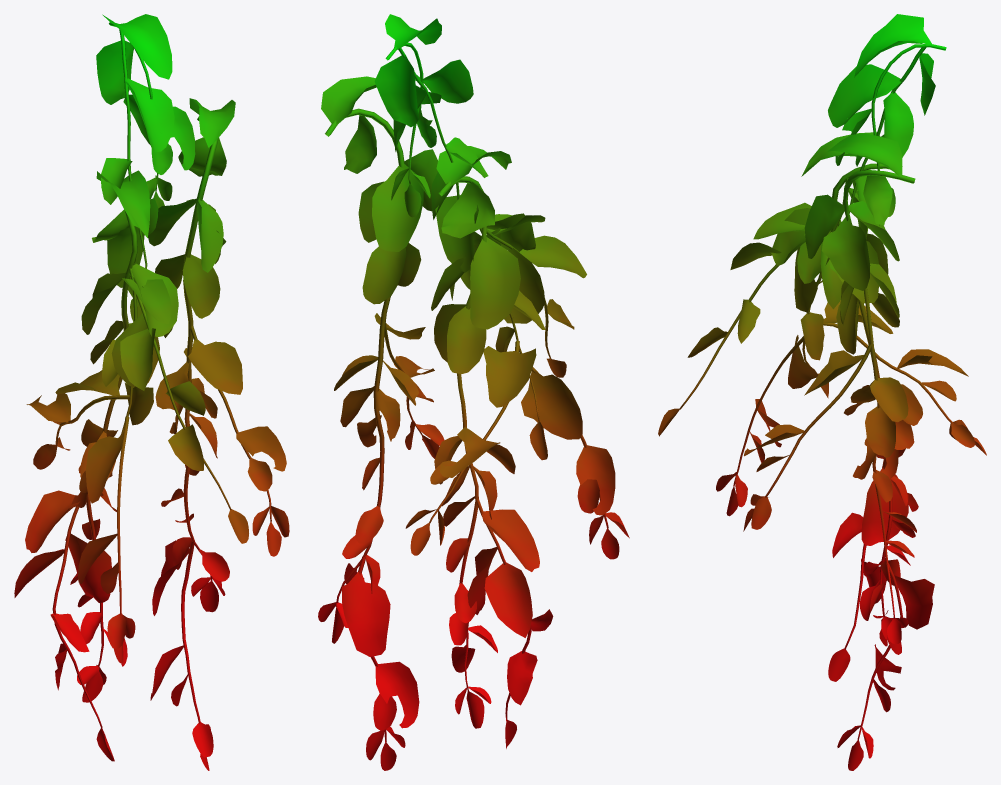
Rendered from Var12_LOD0.fbx.
3 renders of one model, left to right at view 1: azimuth 30°, elevation 25°; view 2: azimuth 150°, elevation 25°; view 3: azimuth 270°, elevation 25°, orthographic. The views are drawn at different scales.
Parts seen in each view (by area): view 1: _w6xx_Var12_LOD0; view 2: _w6xx_Var12_LOD0; view 3: _w6xx_Var12_LOD0.
Part boxes in pixels (left/top/right/bottom): _w6xx_Var12_LOD0: left=14, top=14, right=289, bottom=770; _w6xx_Var12_LOD0: left=318, top=14, right=629, bottom=770; _w6xx_Var12_LOD0: left=658, top=14, right=986, bottom=770.
Bounding box in the file's own units: 23.01 × 76.51 × 31.54.
